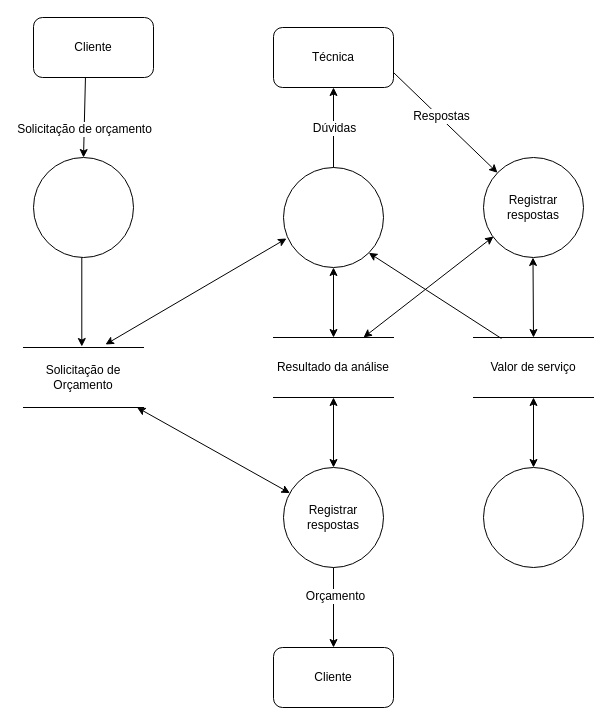
Some shapes in this 611 by 725 pixel diagram are drawn without their labels. Here are the shapes that lost their labels. From the top down, the box of each, then its label:
(32, 156, 134, 258): Receber solicitação de Orçamento
(282, 166, 384, 268): Atualizar solicitação de orçamento
(482, 466, 584, 568): Atualizar valores de serviços
